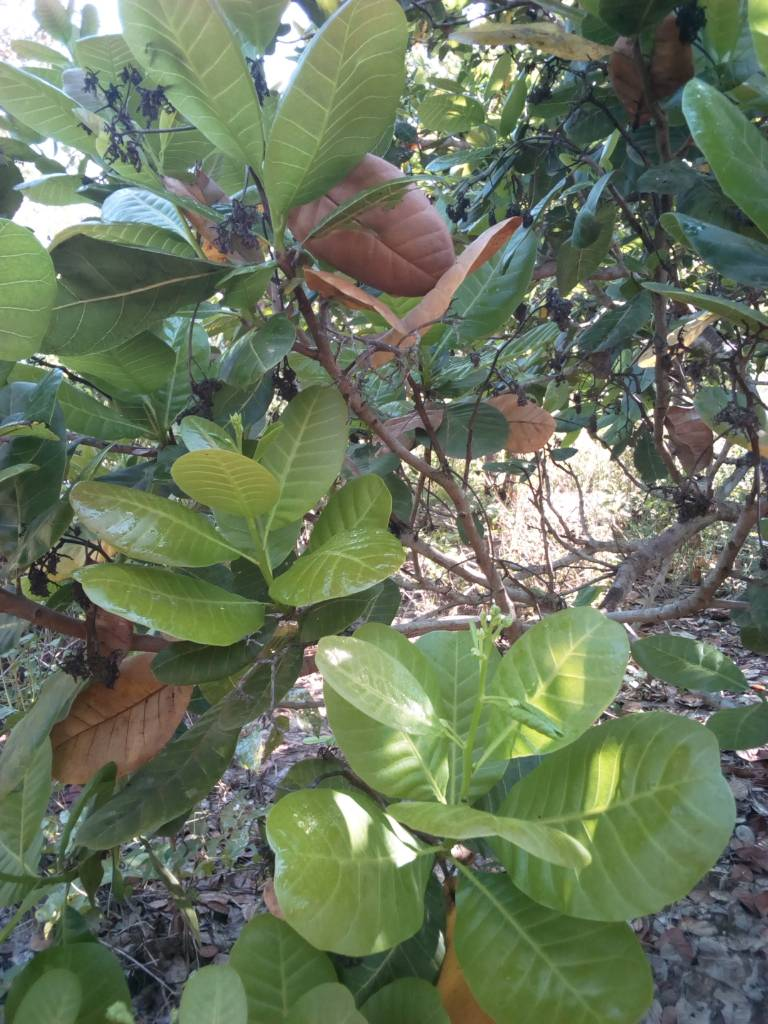Dessèchement des bourgeons: (80, 66, 168, 169), (218, 164, 280, 253), (716, 336, 766, 433), (666, 463, 716, 527), (66, 633, 122, 683), (538, 289, 579, 330)
